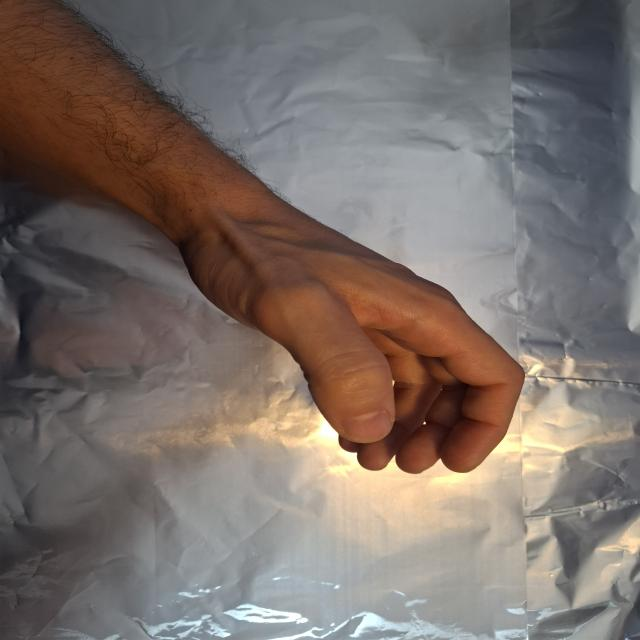glove_off: (174, 198, 528, 476)
